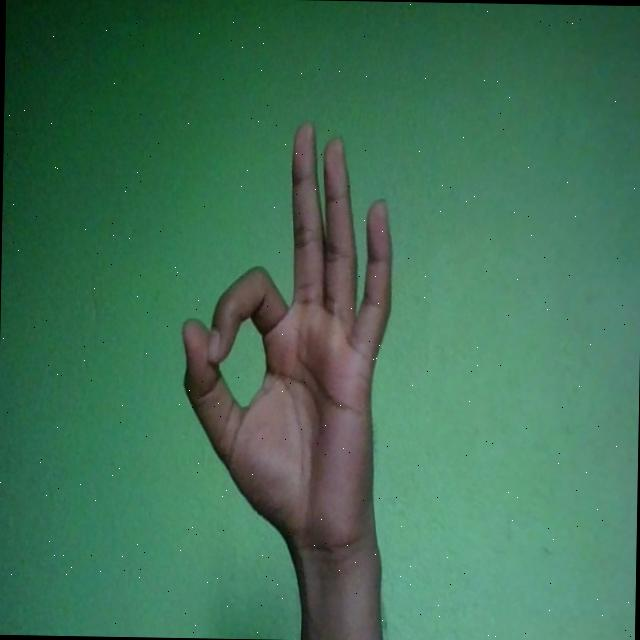Rock On: (178, 118, 393, 564)
